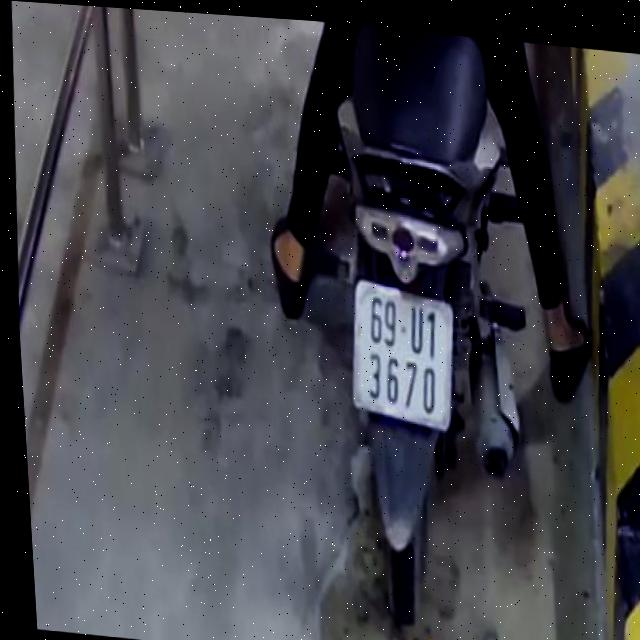motorcycle: (304, 24, 561, 640)
plate: (346, 280, 464, 431)
